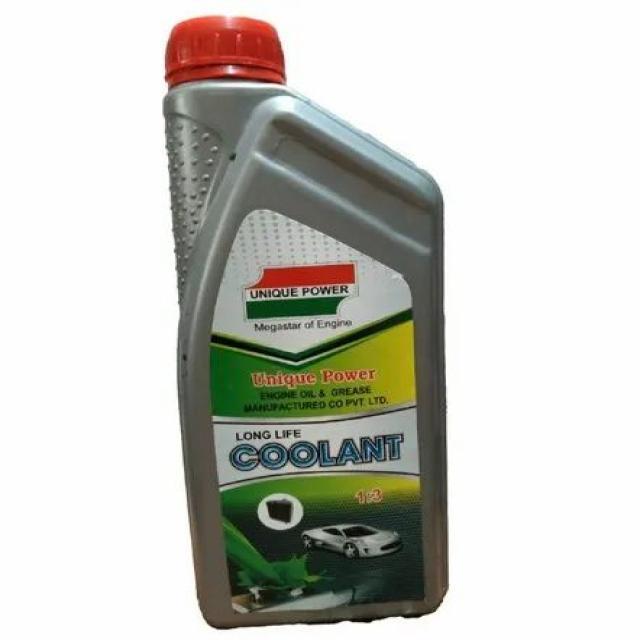coolant: (157, 15, 451, 634)
